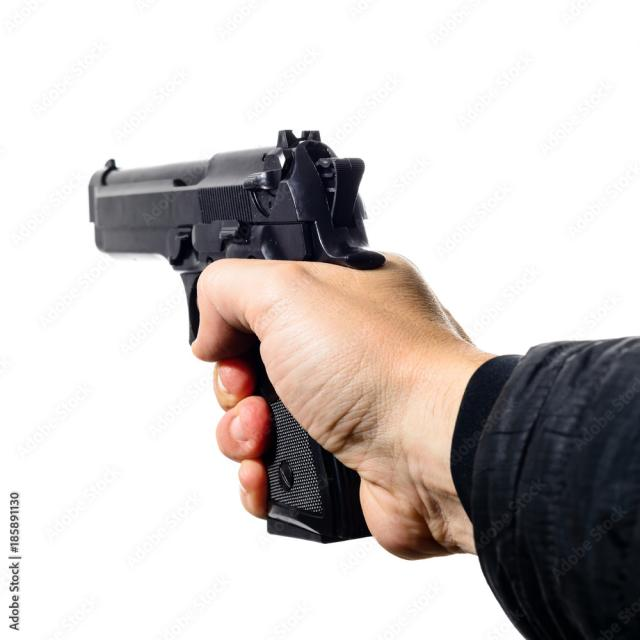HandGun: (90, 131, 386, 545)
